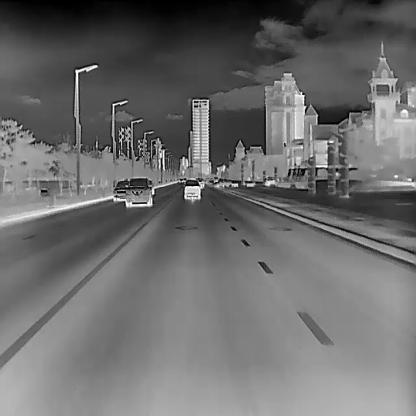car: (125, 178, 151, 207), (112, 179, 130, 200), (183, 178, 200, 199), (214, 178, 232, 188), (264, 176, 280, 186), (196, 177, 204, 189)
